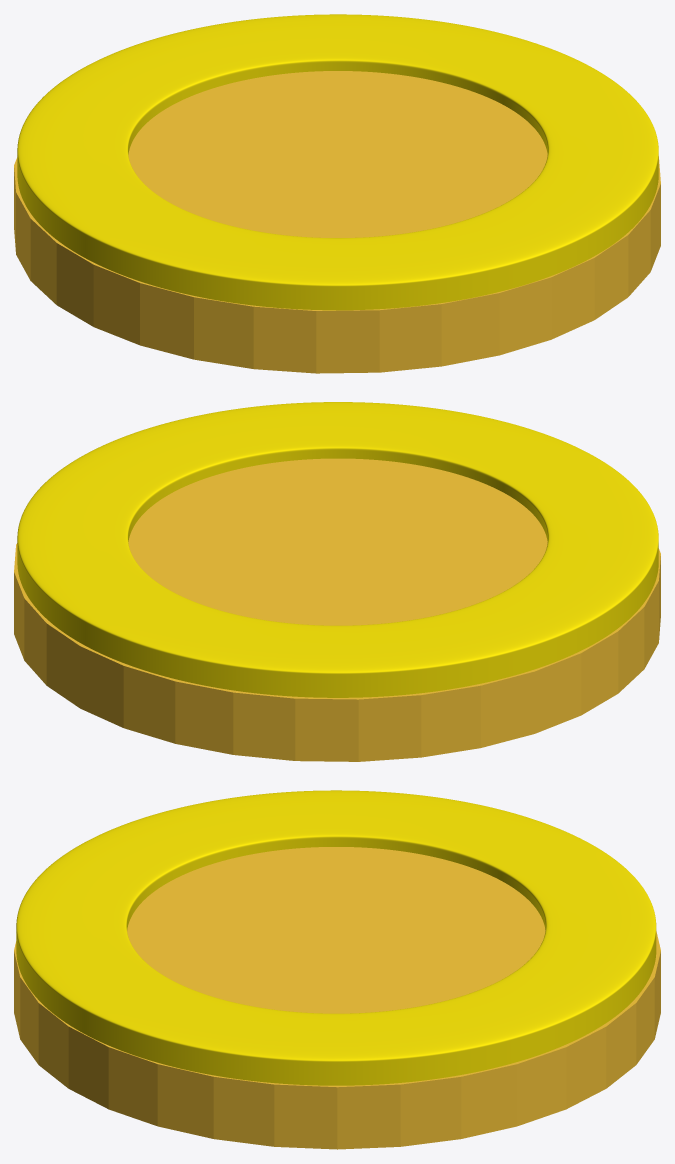
Rendered from token.fbx.
3 views of the same model, one above another, from view 1: azimuth 30°, elevation 25°; view 2: azimuth 150°, elevation 25°; view 3: azimuth 270°, elevation 25° (orthographic).
Parts seen in each view (by area): view 1: Cylinder.001, Cylinder; view 2: Cylinder.001, Cylinder; view 3: Cylinder.001, Cylinder.
Boxes of the visible parts, x1,y1,x2,y2 form: Cylinder.001: (17,14,658,310); Cylinder: (14,71,660,373); Cylinder.001: (17,402,658,697); Cylinder: (14,458,660,761); Cylinder.001: (16,790,656,1085); Cylinder: (14,847,660,1149).
Bounding box in the file's own units: 165 × 25.09 × 165.
